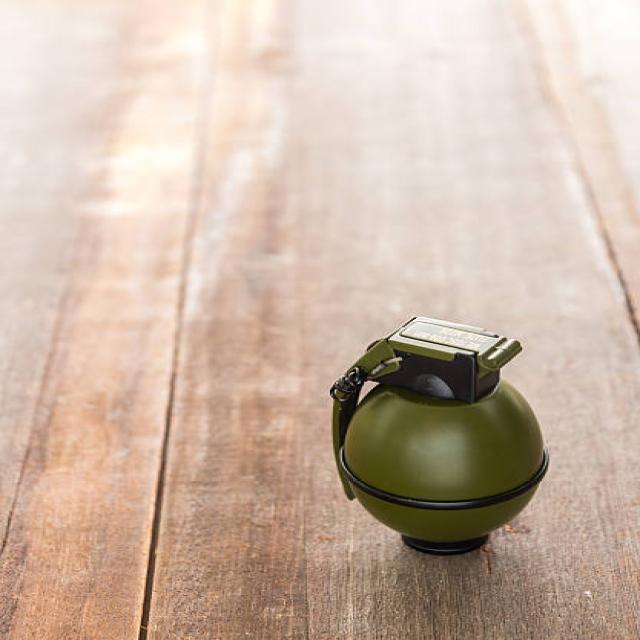grenade: (322, 318, 549, 559)
